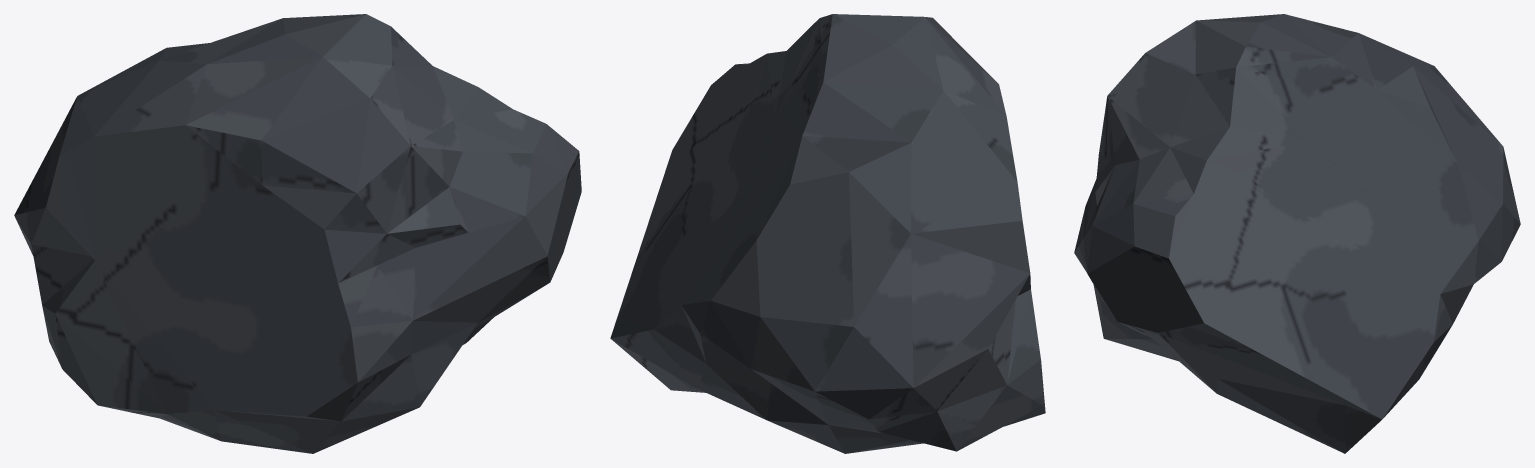
Rendered from rock_break4_v1.fbx.
3 renders of one model, left to right at view 1: azimuth 30°, elevation 25°; view 2: azimuth 150°, elevation 25°; view 3: azimuth 270°, elevation 25°, orthographic. The views are drawn at different scales.
Parts seen in each view (by area): view 1: rock_break4_v1_lod0, rock_break4_v1_p6, rock_break4_v1_p4, rock_break4_v1_p2, rock_break4_v1_p5, rock_break4_v1_p3; view 2: rock_break4_v1_lod0, rock_break4_v1_p5, rock_break4_v1_p3, rock_break4_v1_p1, rock_break4_v1_p2, rock_break4_v1_p0, rock_break4_v1_p4; view 3: rock_break4_v1_lod0, rock_break4_v1_p1, rock_break4_v1_p2, rock_break4_v1_p3, rock_break4_v1_p0, rock_break4_v1_p5, rock_break4_v1_p6, rock_break4_v1_p4.
Part boxes in pixels (bbox=[...]): rock_break4_v1_lod0: bbox=[14, 14, 581, 453]; rock_break4_v1_p6: bbox=[172, 206, 530, 439]; rock_break4_v1_p4: bbox=[52, 33, 434, 313]; rock_break4_v1_p2: bbox=[300, 14, 549, 295]; rock_break4_v1_p5: bbox=[19, 46, 197, 311]; rock_break4_v1_p3: bbox=[193, 15, 330, 58]; rock_break4_v1_lod0: bbox=[610, 14, 1045, 453]; rock_break4_v1_p5: bbox=[739, 106, 1033, 433]; rock_break4_v1_p3: bbox=[702, 37, 922, 306]; rock_break4_v1_p1: bbox=[617, 118, 774, 316]; rock_break4_v1_p2: bbox=[664, 14, 892, 174]; rock_break4_v1_p0: bbox=[615, 278, 975, 452]; rock_break4_v1_p4: bbox=[888, 17, 1040, 364]; rock_break4_v1_lod0: bbox=[1074, 14, 1520, 418]; rock_break4_v1_p1: bbox=[1206, 141, 1428, 408]; rock_break4_v1_p2: bbox=[1086, 25, 1310, 371]; rock_break4_v1_p3: bbox=[1254, 23, 1478, 258]; rock_break4_v1_p0: bbox=[1216, 257, 1474, 453]; rock_break4_v1_p5: bbox=[1330, 31, 1519, 226]; rock_break4_v1_p6: bbox=[1077, 167, 1216, 392]; rock_break4_v1_p4: bbox=[1094, 14, 1311, 184].
Size of what is drawn, in the model's own units: 91.18 by 73.72 by 83.99.
